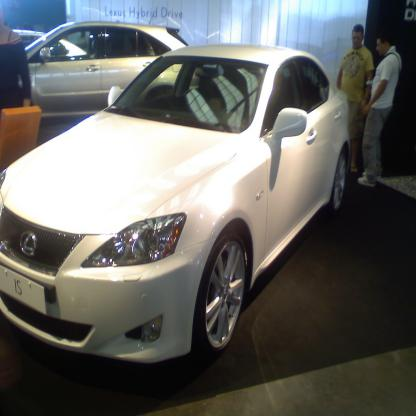Car: (0, 21, 351, 364), (16, 20, 211, 112)
